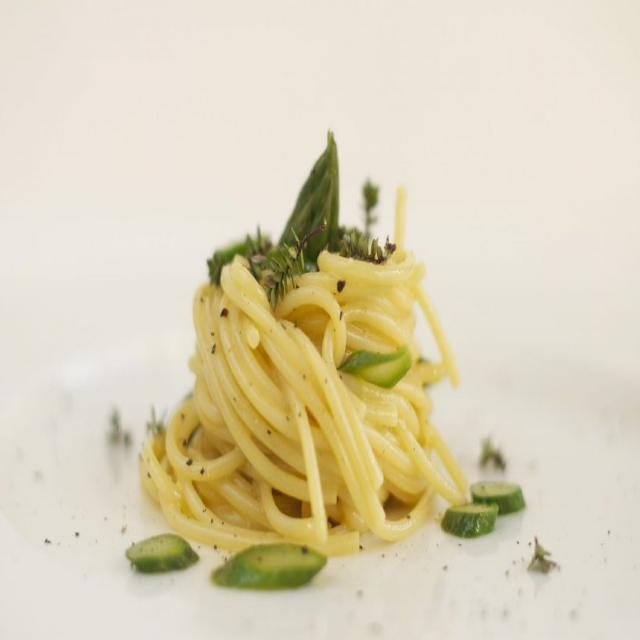Pasta with carbonara sauce: (141, 66, 561, 618)
